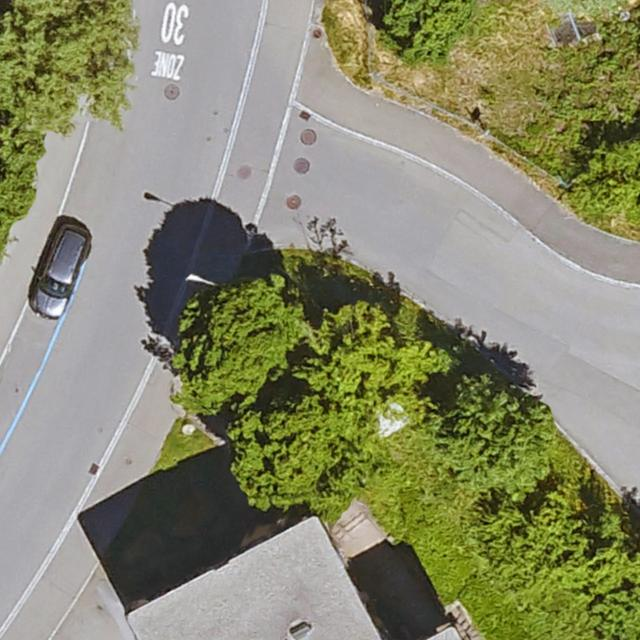tree: (170, 279, 310, 410), (0, 0, 136, 125), (227, 396, 372, 510), (481, 494, 599, 614), (438, 379, 549, 492), (305, 305, 396, 401), (579, 522, 640, 640), (379, 0, 469, 64), (573, 131, 640, 215), (0, 125, 36, 267)
